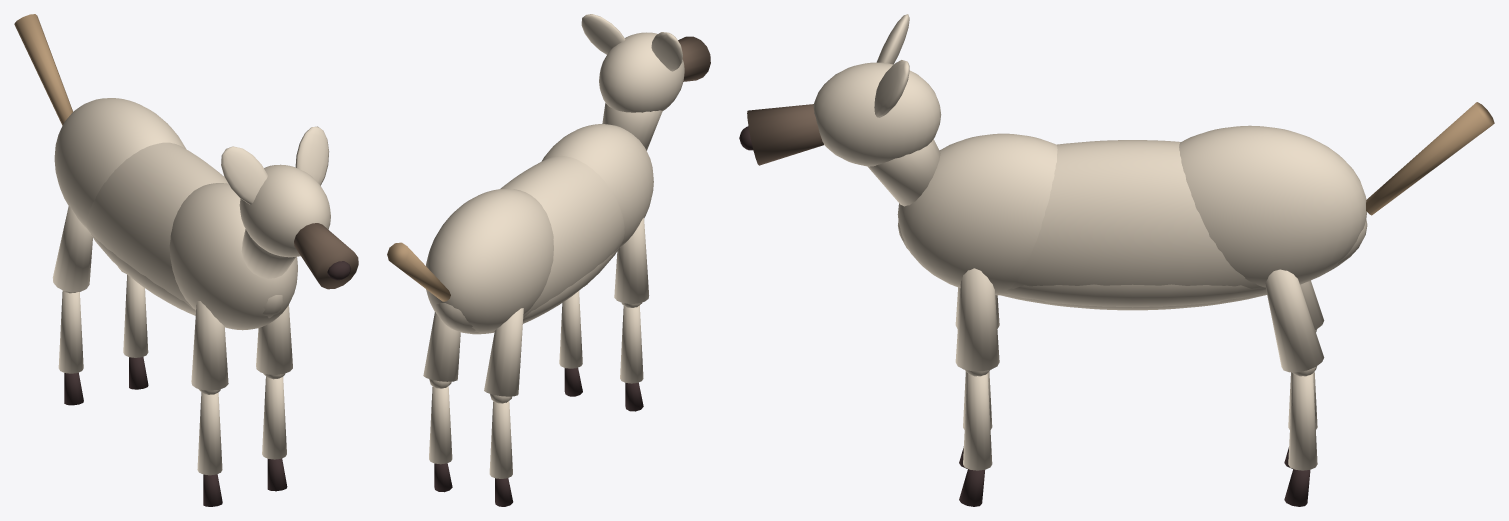
File: chien.glb
3 views of the same model, side by side, from view 1: azimuth 30°, elevation 25°; view 2: azimuth 150°, elevation 25°; view 3: azimuth 270°, elevation 25° (orthographic). The views are drawn at different scales.
Parts seen in each view (by area): view 1: corps, poitrail, croupe, crane, haut, museau, haut.002, queue.001, haut.001, bas.001, oreille, bas (+9 smaller); view 2: croupe, corps, poitrail, crane, haut.002, haut, haut.003, bas.003, bas.002, bas, bas.001, queue.001 (+9 smaller); view 3: corps, croupe, poitrail, crane, ventre, haut.003, haut.001, queue.001, museau, cou, bas.003, bas.001 (+2 smaller).
Boxes of the visible parts, bbox=[...] form: corps: bbox=[86, 142, 283, 318]; poitrail: bbox=[169, 183, 297, 330]; croupe: bbox=[54, 98, 185, 228]; crane: bbox=[239, 164, 330, 257]; haut: bbox=[191, 301, 228, 390]; museau: bbox=[294, 223, 358, 289]; haut.002: bbox=[52, 206, 92, 292]; queue.001: bbox=[14, 14, 72, 125]; haut.001: bbox=[256, 305, 292, 374]; bas.001: bbox=[262, 376, 286, 459]; oreille: bbox=[221, 146, 267, 204]; bas: bbox=[197, 392, 222, 475]; croupe: bbox=[426, 189, 553, 333]; corps: bbox=[435, 155, 624, 334]; poitrail: bbox=[541, 124, 653, 247]; crane: bbox=[599, 32, 684, 112]; haut.002: bbox=[484, 308, 523, 396]; haut: bbox=[614, 218, 649, 303]; haut.003: bbox=[423, 312, 460, 381]; bas.003: bbox=[429, 386, 452, 464]; bas.002: bbox=[489, 401, 512, 478]; bas: bbox=[620, 305, 643, 383]; bas.001: bbox=[559, 291, 582, 368]; queue.001: bbox=[387, 242, 450, 301]; corps: bbox=[898, 140, 1367, 310]; croupe: bbox=[1179, 125, 1366, 287]; poitrail: bbox=[897, 133, 1057, 295]; crane: bbox=[813, 62, 941, 166]; ventre: bbox=[1005, 284, 1265, 307]; haut.003: bbox=[1265, 269, 1324, 372]; haut.001: bbox=[955, 268, 999, 371]; queue.001: bbox=[1366, 102, 1494, 215]; museau: bbox=[747, 104, 823, 165]; cou: bbox=[867, 139, 940, 206]; bas.003: bbox=[1288, 373, 1317, 470]; bas.001: bbox=[963, 373, 992, 470].
Bounding box in the file's own units: 0.2438 × 0.8391 × 1.29.
